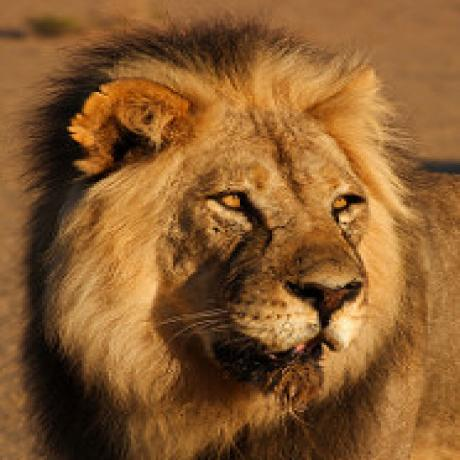Lion: (20, 15, 460, 460)
